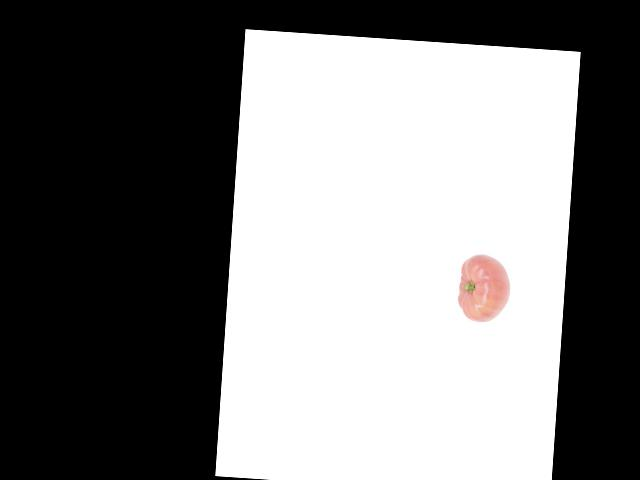tomato: (457, 253, 511, 324)
